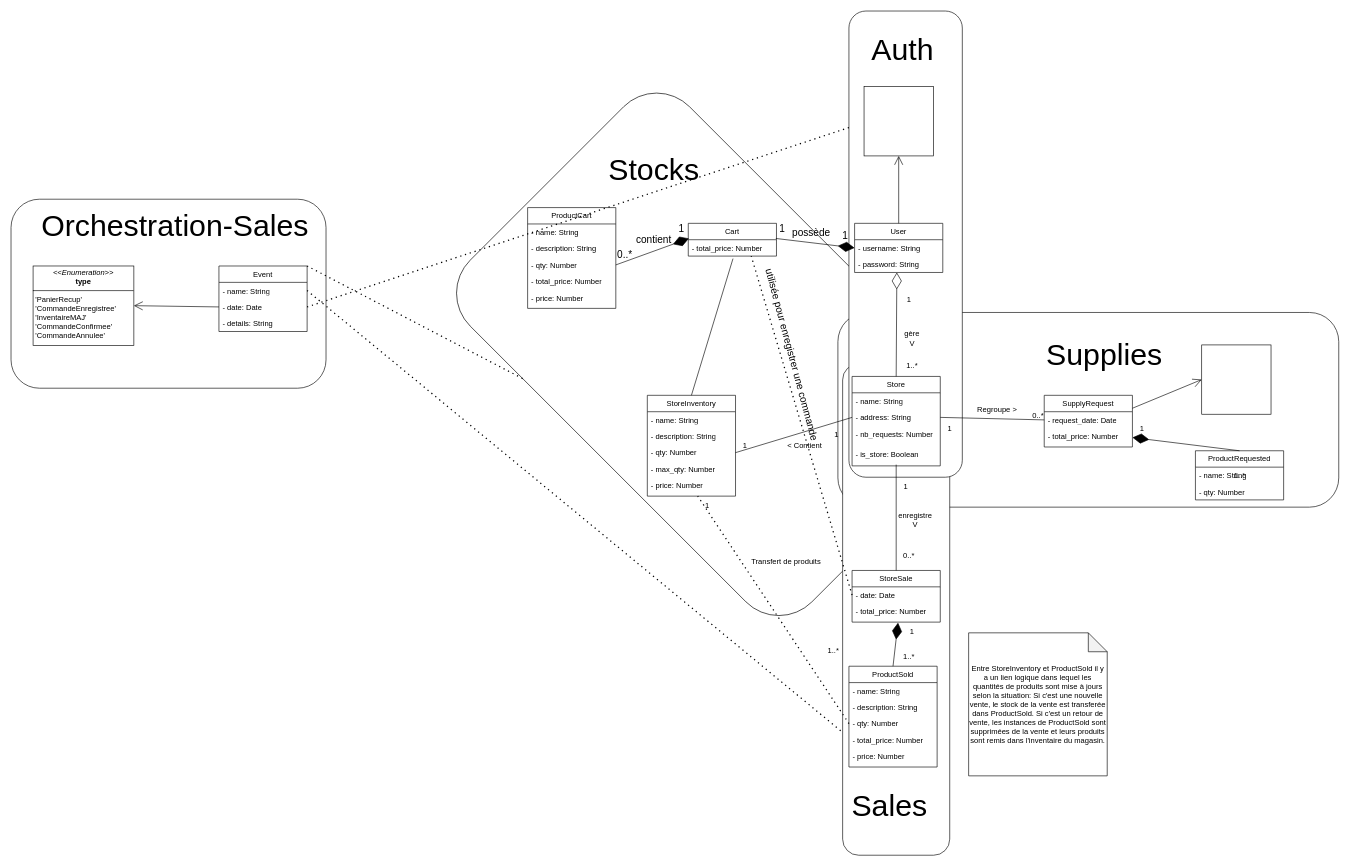
This 1350x866 diagram has some shape labels left out. The shapes that lost their labels are listed below. From the top down, each one's centre as x and y in pixels, then its label:
the point at 898,121: <<Enumeration>> type 'admin' 'seller' 'buyer'
the point at 1236,379: <<Enumeration>> status 'pending' 'approved' 'rejected' 'fulfilled'
